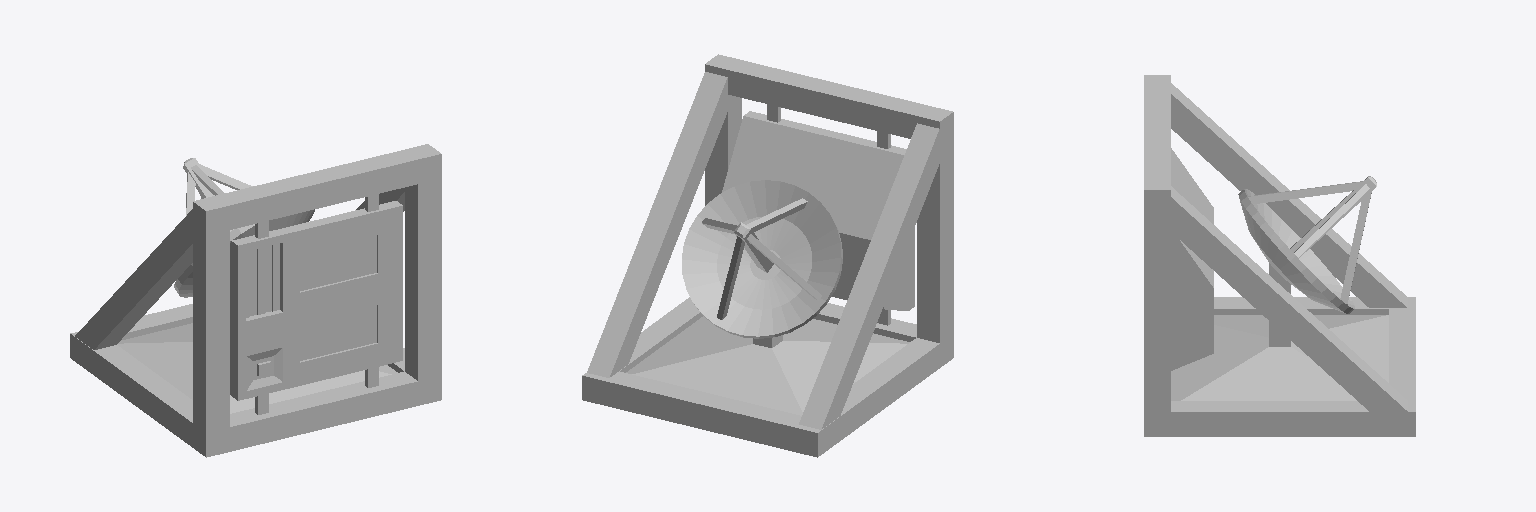
Rendered from RadarWarningReceiver.obj.
3 views of the same model, side by side, from view 1: azimuth 30°, elevation 25°; view 2: azimuth 150°, elevation 25°; view 3: azimuth 270°, elevation 25° (orthographic).
Visible parts, largest first — view 1: FrameCube; view 2: FrameCube; view 3: FrameCube.
Part boxes in pixels (left/top/right/bottom): FrameCube: left=70, top=144, right=441, bottom=457; FrameCube: left=582, top=54, right=953, bottom=457; FrameCube: left=1144, top=75, right=1415, bottom=436.
Bounding box in the file's own units: 1 × 1 × 1.